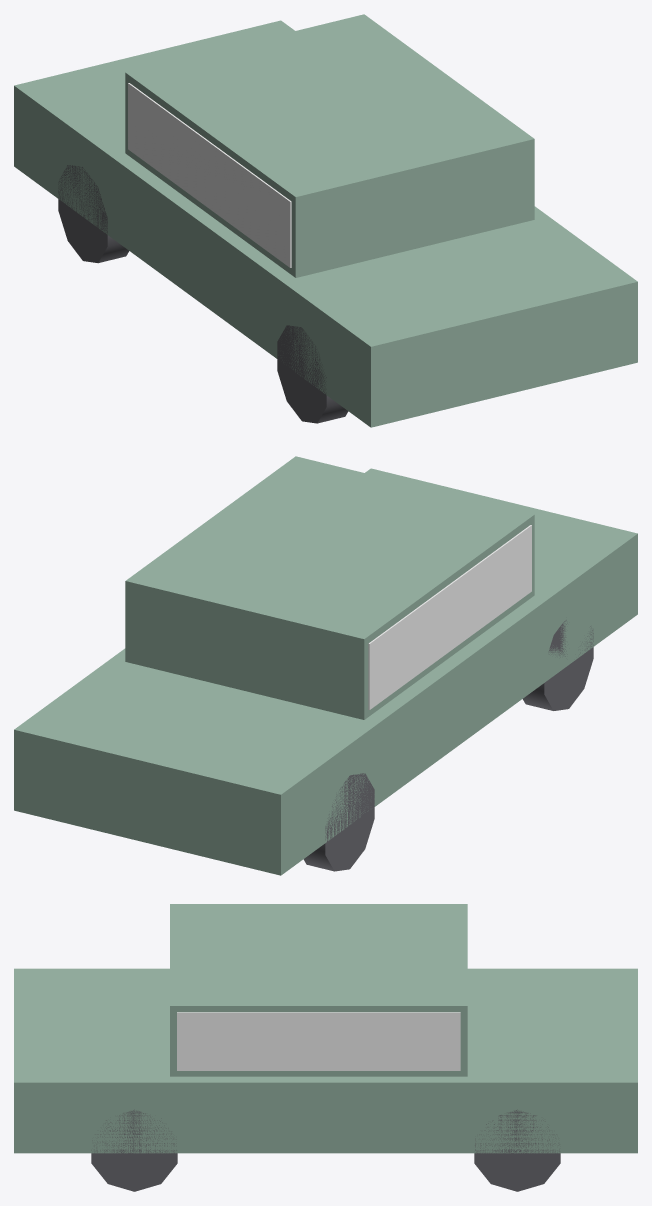
File: car.gltf
3 renders of one model, top to bottom at view 1: azimuth 30°, elevation 25°; view 2: azimuth 150°, elevation 25°; view 3: azimuth 270°, elevation 25°, orthographic. The views are drawn at different scales.
Parts seen in each view (by area): view 1: car; view 2: car; view 3: car.
Boxes of the visible parts, x1,y1,x2,y2 form: car: [14, 14, 637, 427]; car: [14, 456, 637, 875]; car: [14, 904, 637, 1191].
Size of the model in its own units: 1.9 by 1.4 by 4.4.
